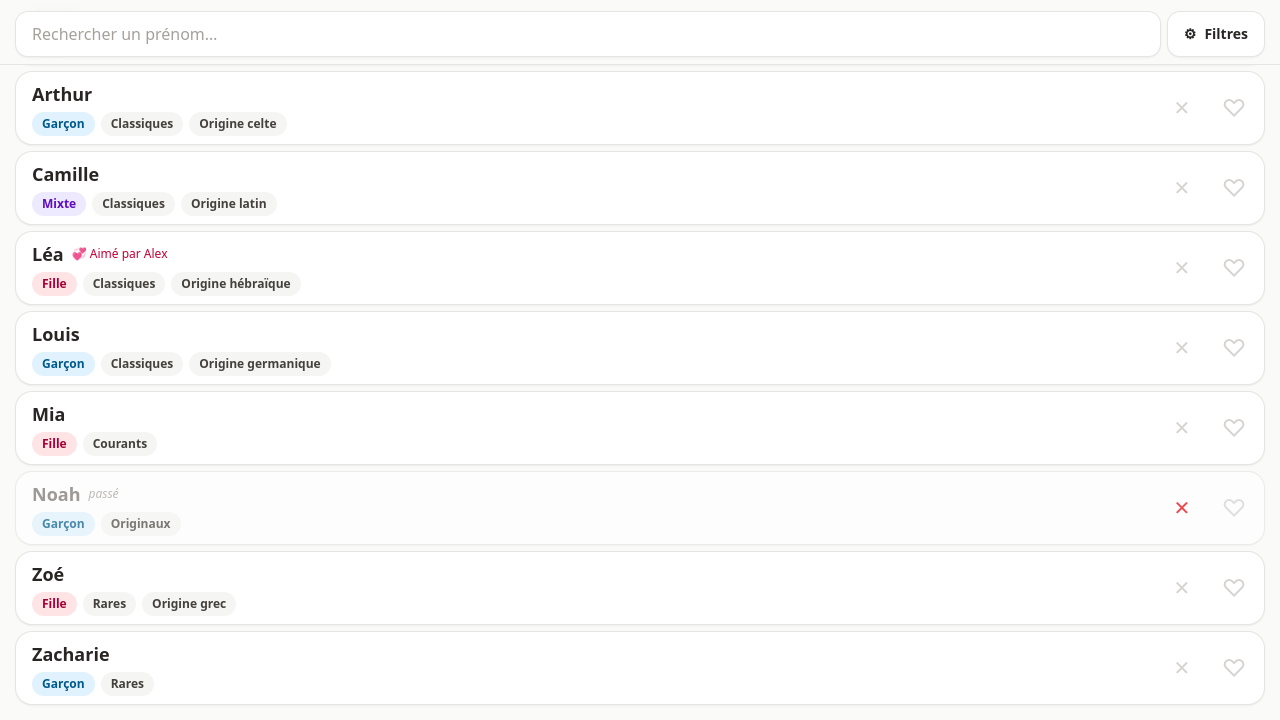
Test: ListPage › skips a name from the cross next to the heart and restores it
The width and height of the screenshot is (1280, 720).
(page scrolled)
Click the button named "Passer Zoé".
click(1182, 588)  # box [1160, 566, 1204, 610]
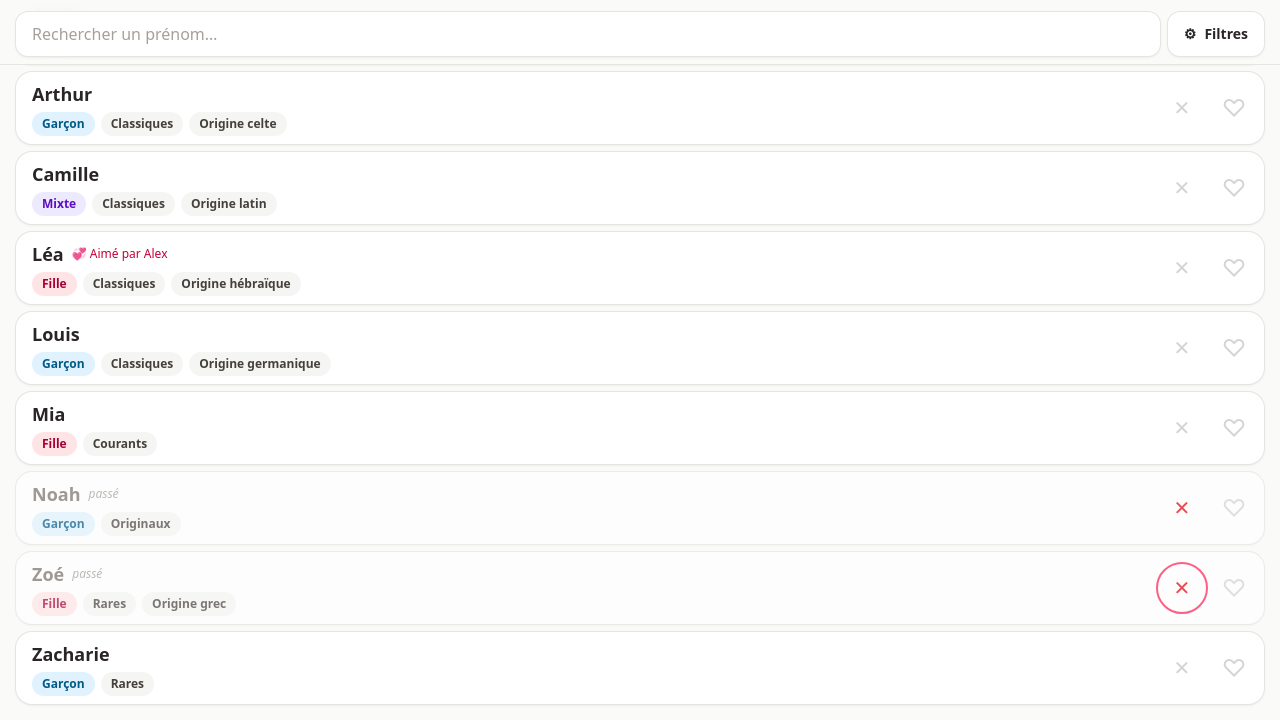
Expected: the text "passé" is shown 2 times, [88, 486, 119, 502]; [72, 566, 102, 582]
# Skipping a liked name replaces the like.
Click the button named "Aimer Léa".
click(1234, 268)  # box [1212, 246, 1256, 290]
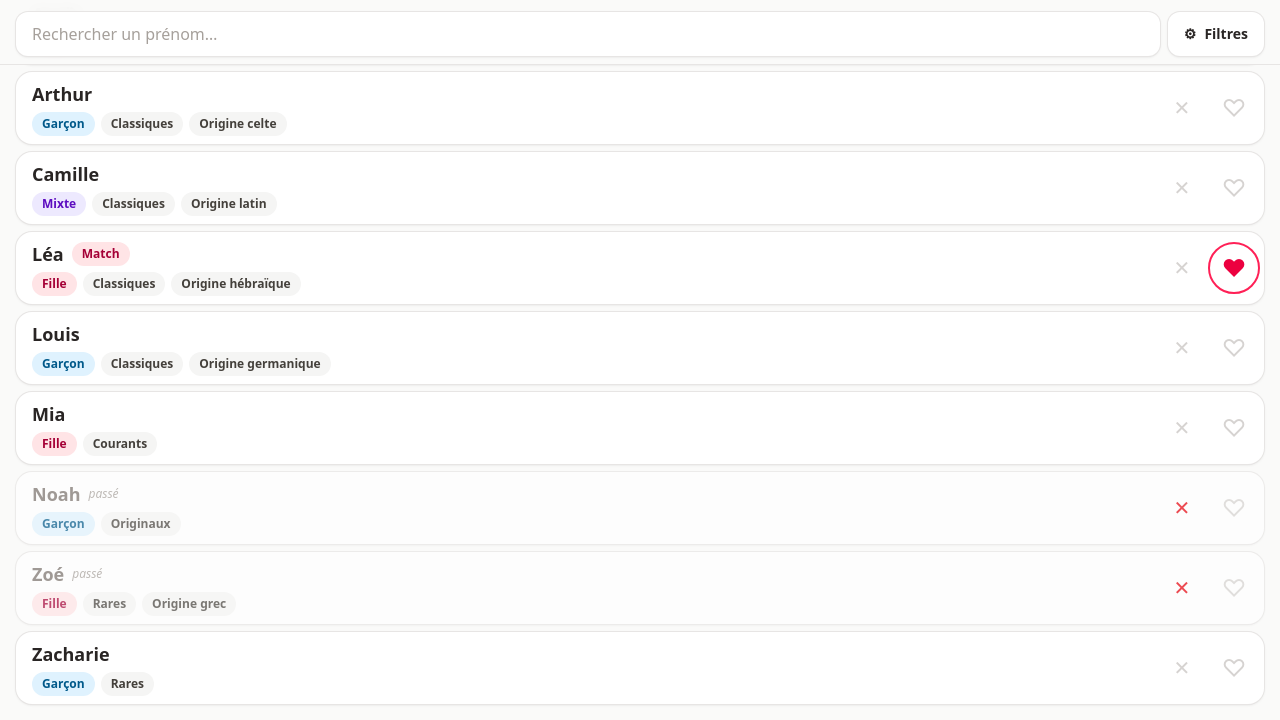
Expected: the button named "Retirer Léa de mes favoris" is shown, [1212, 246, 1256, 290]
Click the button named "Passer Léa".
click(1182, 268)  # box [1160, 246, 1204, 290]
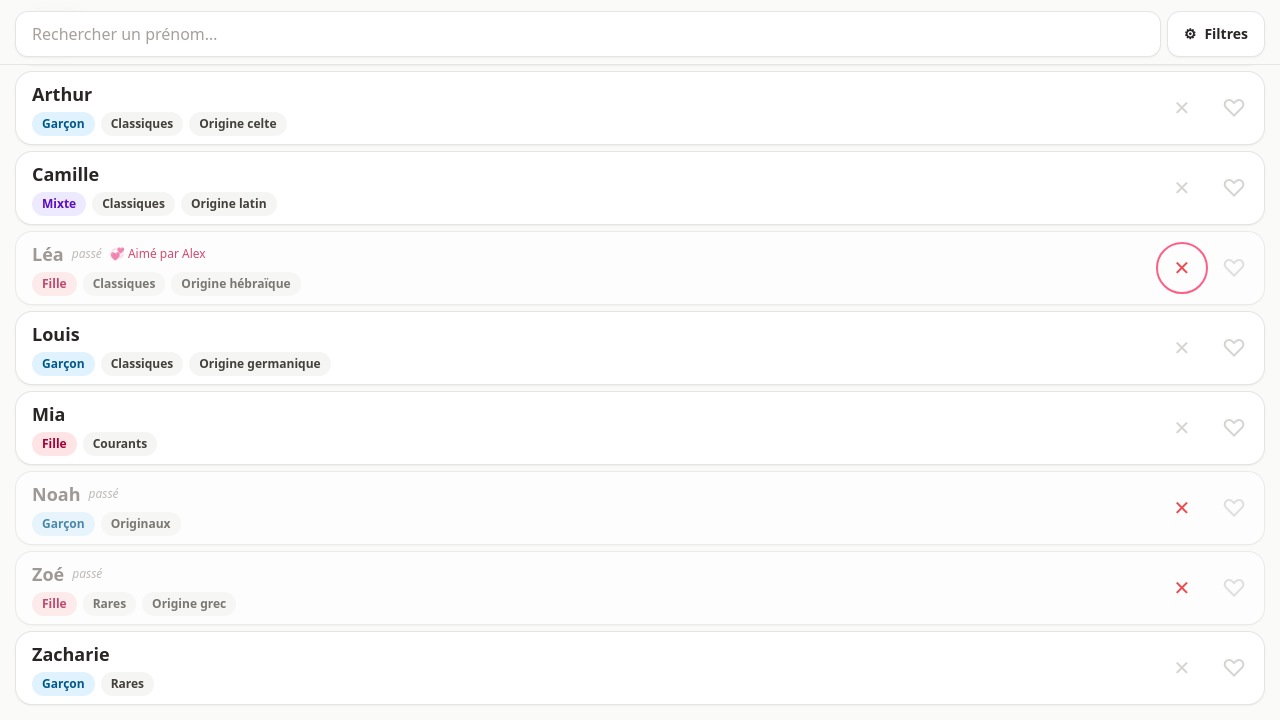
Expected: the button named "Aimer Léa" is shown, [1212, 246, 1256, 290]
# The cross of a skipped name restores it.
Click the button named "Reprendre Zoé".
click(1182, 588)  # box [1160, 566, 1204, 610]
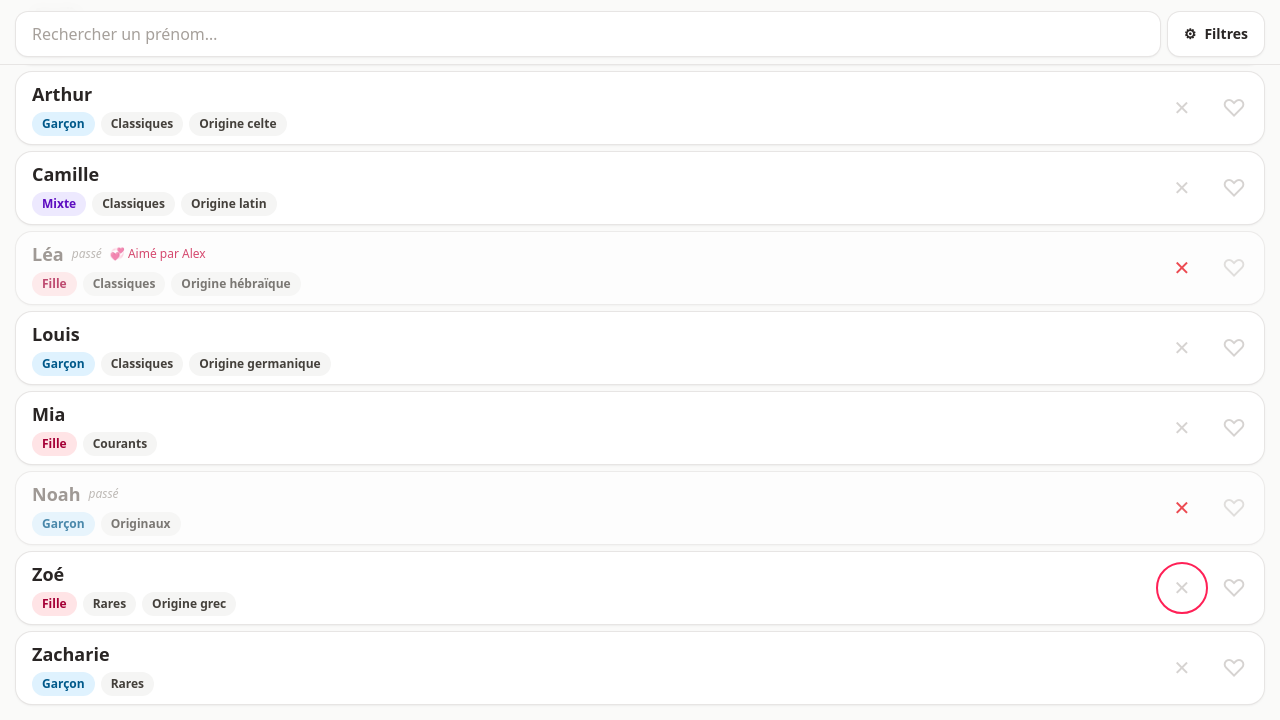
Expected: the button named "Passer Zoé" is shown, [1160, 566, 1204, 610]
